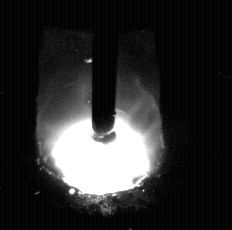arame: (92, 0, 117, 143)
poca: (35, 0, 164, 230)
